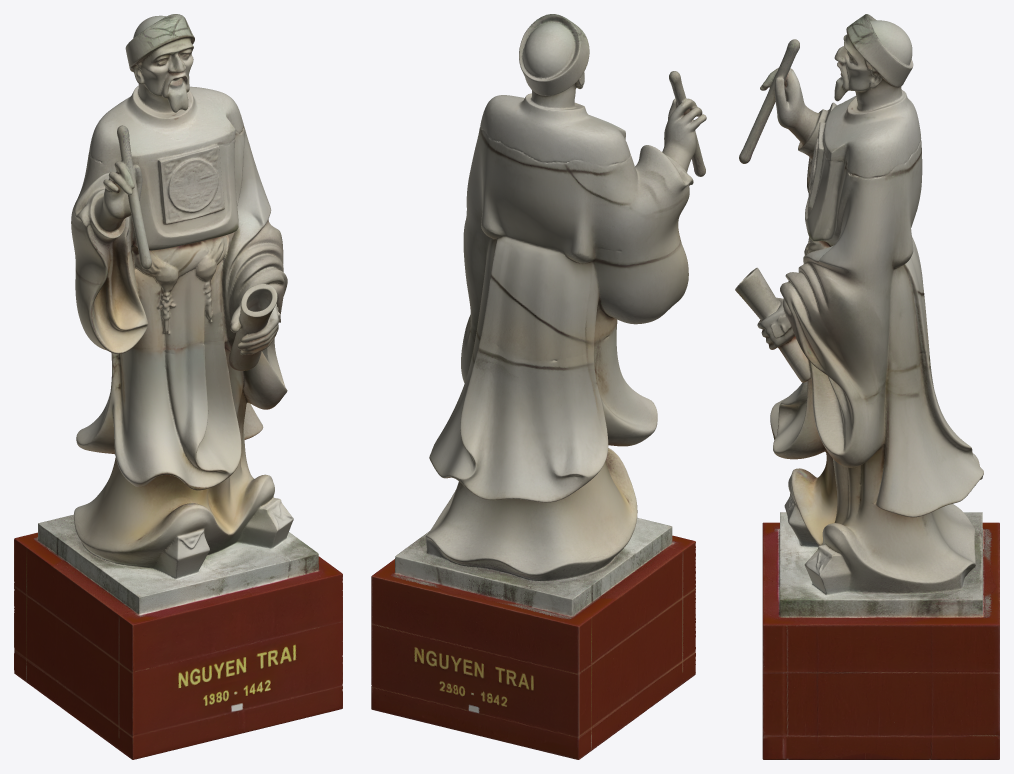
Rendered from Meshy_AI_Statue_of_a_Vietnames_0629085149_texture.fbx.
3 views of the same model, side by side, from view 1: azimuth 30°, elevation 25°; view 2: azimuth 150°, elevation 25°; view 3: azimuth 270°, elevation 25° (orthographic).
Visible parts, largest first — view 1: Mesh_0; view 2: Mesh_0; view 3: Mesh_0.
Part boxes in pixels (x1=…): Mesh_0: x1=14, y1=14, x2=342, y2=759; Mesh_0: x1=371, y1=14, x2=706, y2=759; Mesh_0: x1=735, y1=14, x2=999, y2=759.
Bounding box in the file's own units: 68.14 × 190 × 66.62.
Materials: 1 (1 with a texture image).
